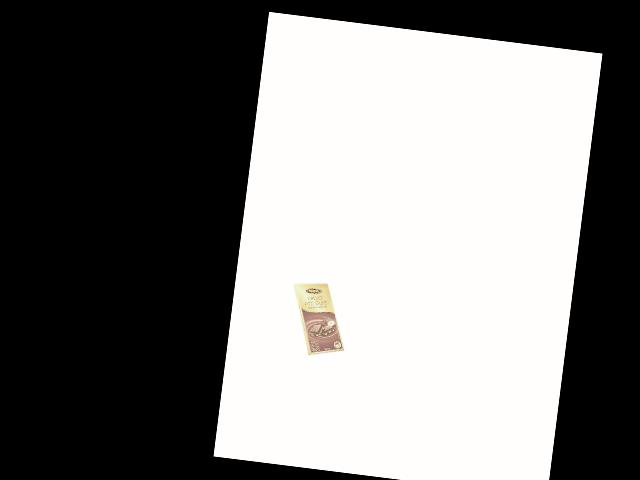chocolate: (282, 278, 352, 366)
